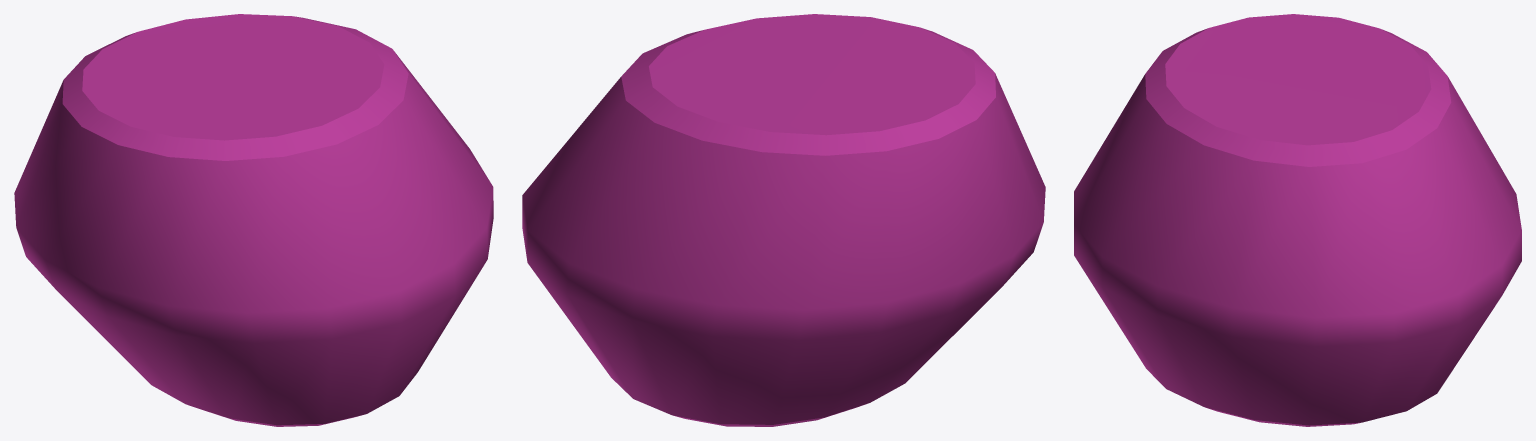
The model's file is 大招投掷物2卡牌.FBX.
The picture shows the model from 3 angles, left to right: view 1: azimuth 30°, elevation 25°; view 2: azimuth 150°, elevation 25°; view 3: azimuth 270°, elevation 25°; orthographic projection. The views are drawn at different scales.
Parts seen in each view (by area): view 1: Cylinder001; view 2: Cylinder001; view 3: Cylinder001.
Part boxes in pixels (x1,y1,x2,y2): Cylinder001: [14, 14, 493, 426]; Cylinder001: [522, 14, 1045, 426]; Cylinder001: [1074, 14, 1521, 426].
Bounding box in the file's own units: 55.15 × 36.58 × 52.82.
